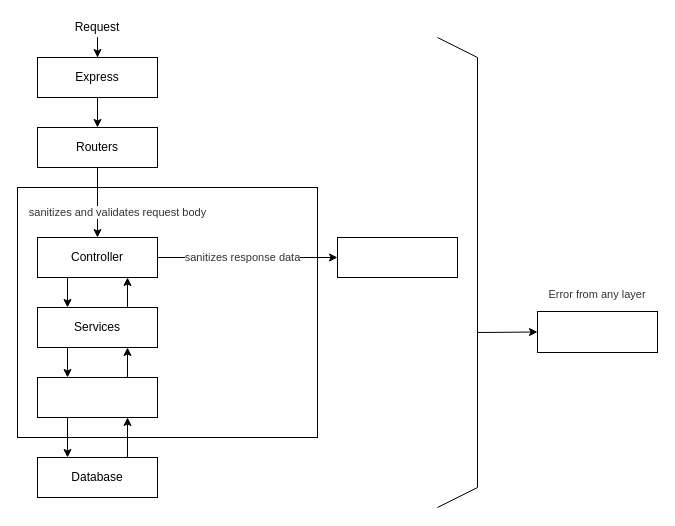
Some shapes in this 675 by 526 pixel diagram are drawn without their labels. Here are the shapes that lost their labels. From the top down, the centre of each, then its label:
(x=397, y=257): Success Response
(x=597, y=331): Error Response
(x=97, y=397): ORM
